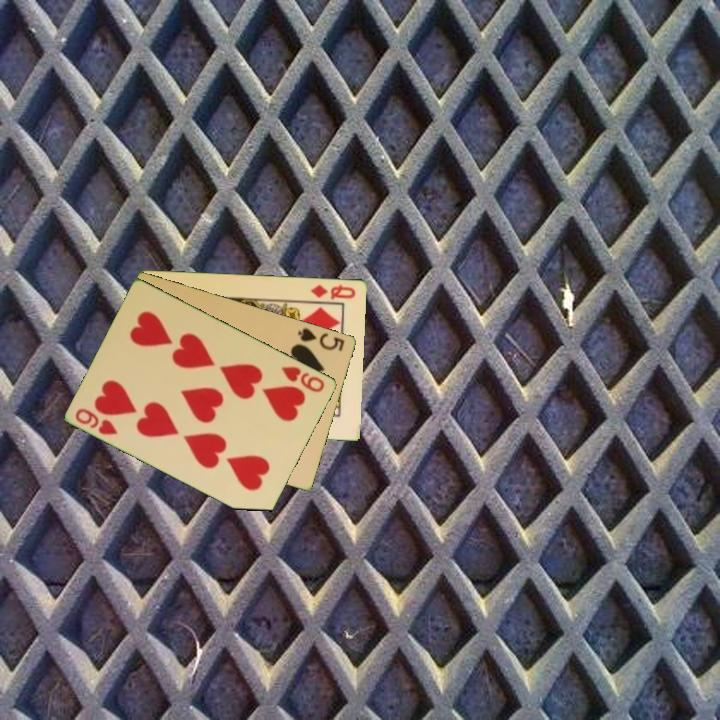5s: (294, 324, 348, 354)
9h: (278, 362, 328, 395), (72, 405, 121, 438)
Qd: (307, 281, 359, 302)
